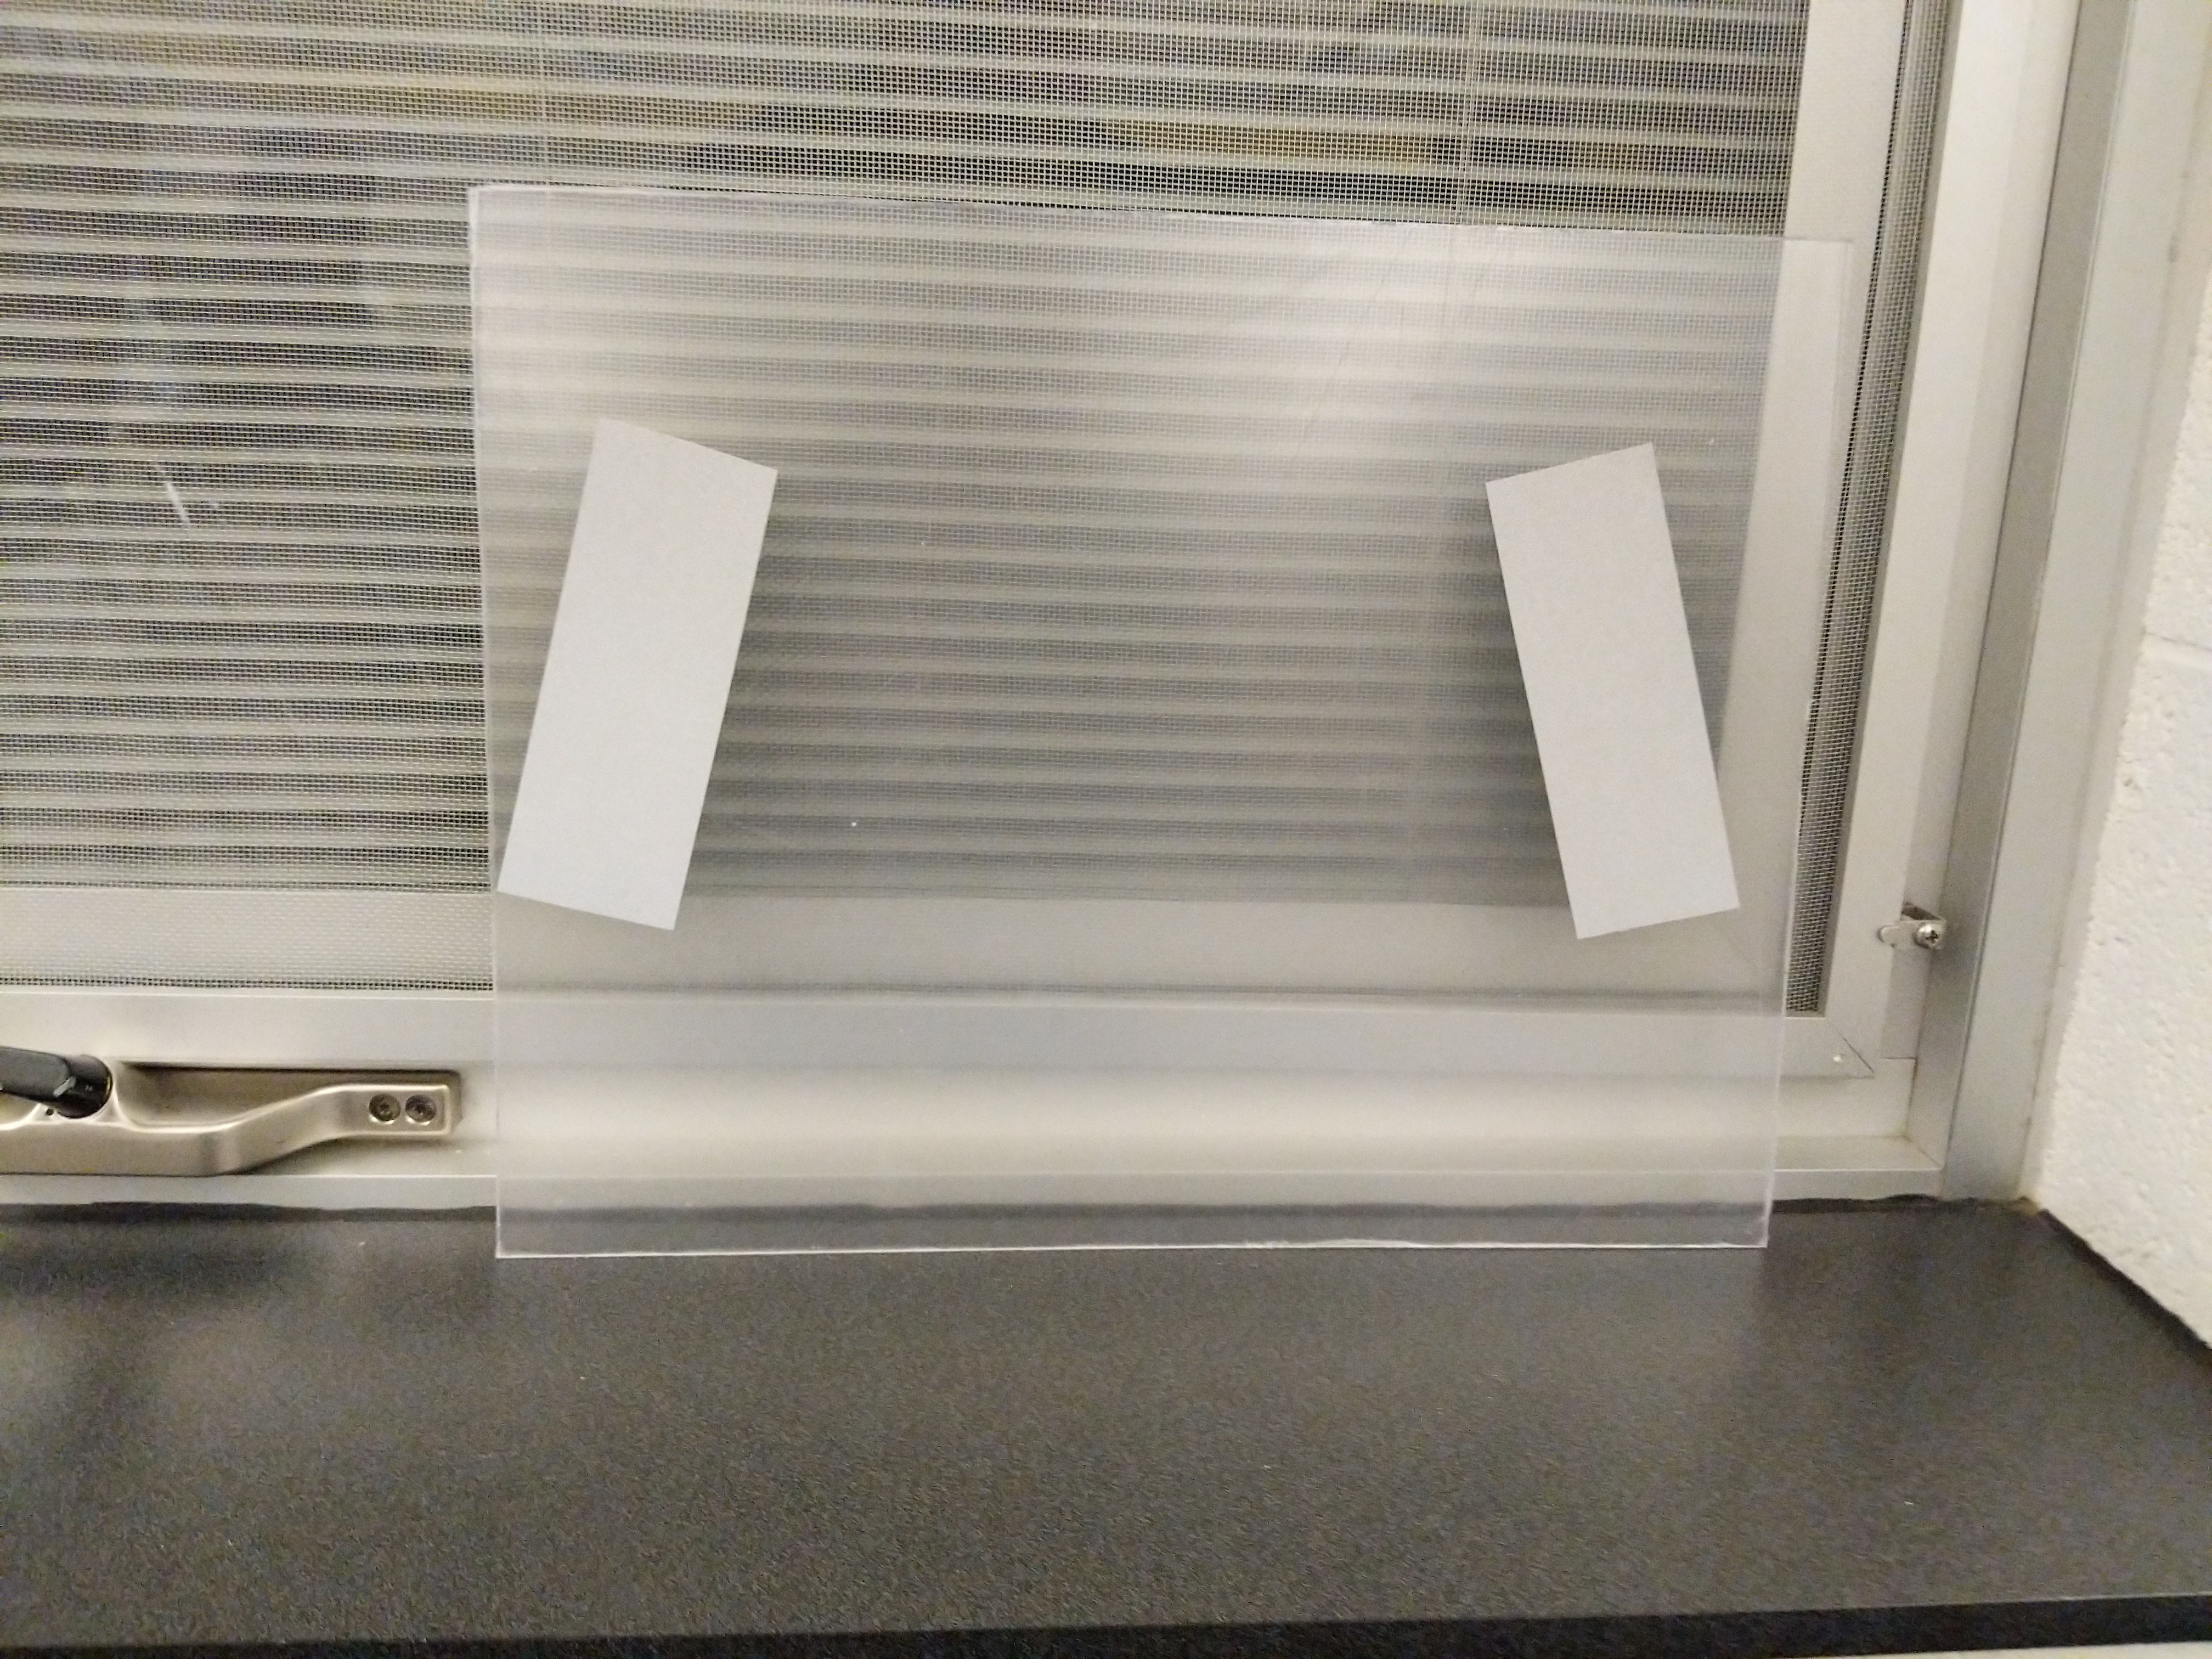vision_target: (482, 413, 1757, 950)
